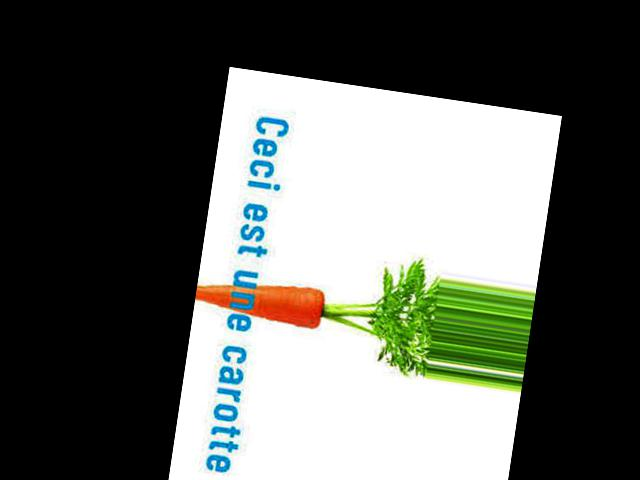carrot: (197, 268, 328, 338)
